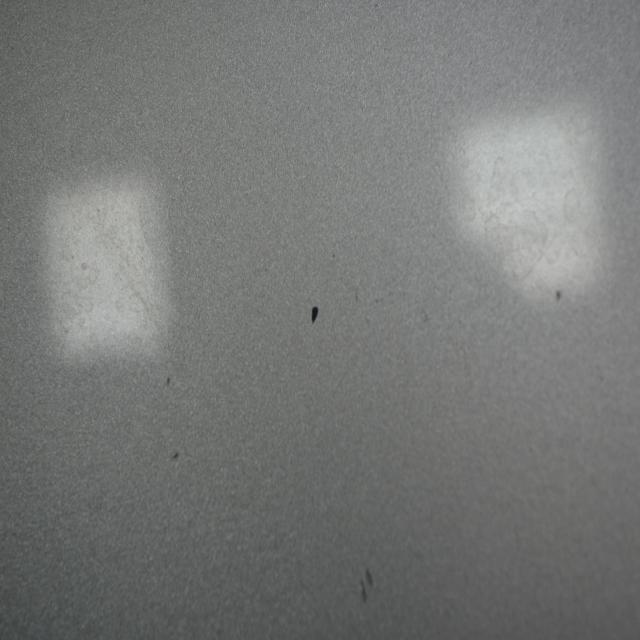dirt: (360, 559, 376, 593), (356, 573, 368, 603), (309, 303, 323, 324), (170, 448, 180, 464), (555, 287, 562, 302), (164, 373, 170, 387)
water marks: (49, 226, 106, 365), (102, 206, 152, 336), (488, 200, 552, 289), (485, 142, 527, 214), (551, 170, 587, 237), (130, 188, 158, 253)
